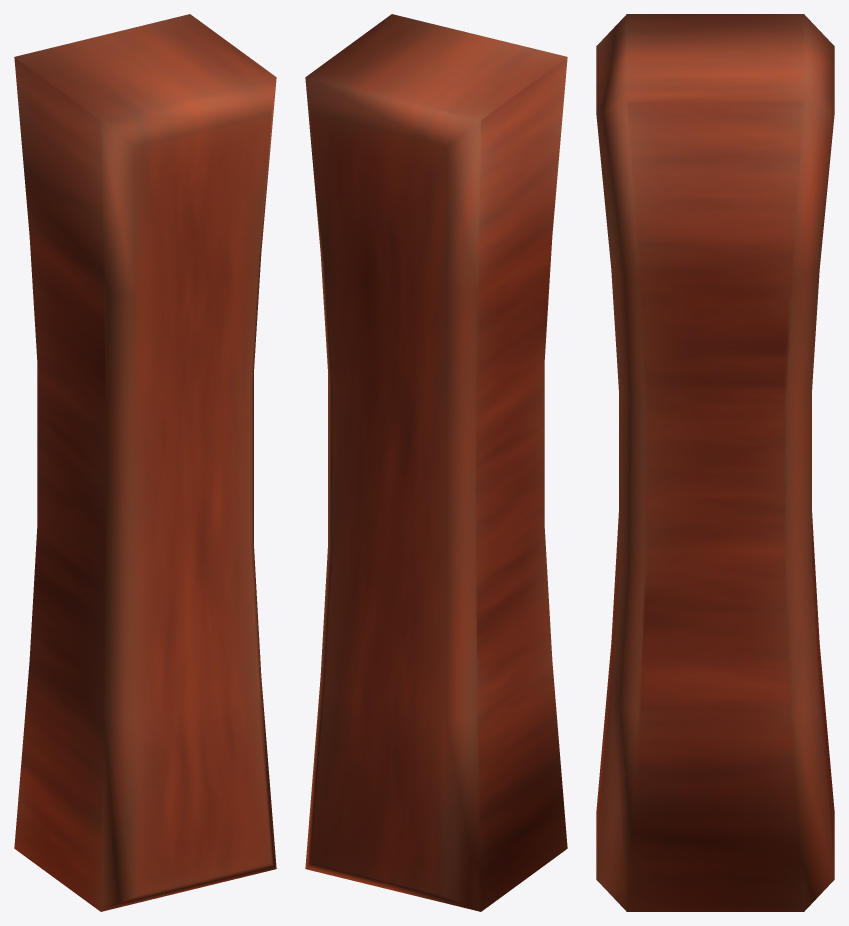
File: columne.fbx
3 renders of one model, left to right at view 1: azimuth 30°, elevation 25°; view 2: azimuth 150°, elevation 25°; view 3: azimuth 270°, elevation 25°, orthographic. The views are drawn at different scales.
Parts seen in each view (by area): view 1: columne; view 2: columne; view 3: columne.
Boxes of the visible parts, <box> form: columne: <box>14,14,276,911</box>; columne: <box>305,14,567,911</box>; columne: <box>596,14,834,911</box>.
Size of the model in its own units: 194 by 836 by 223.
